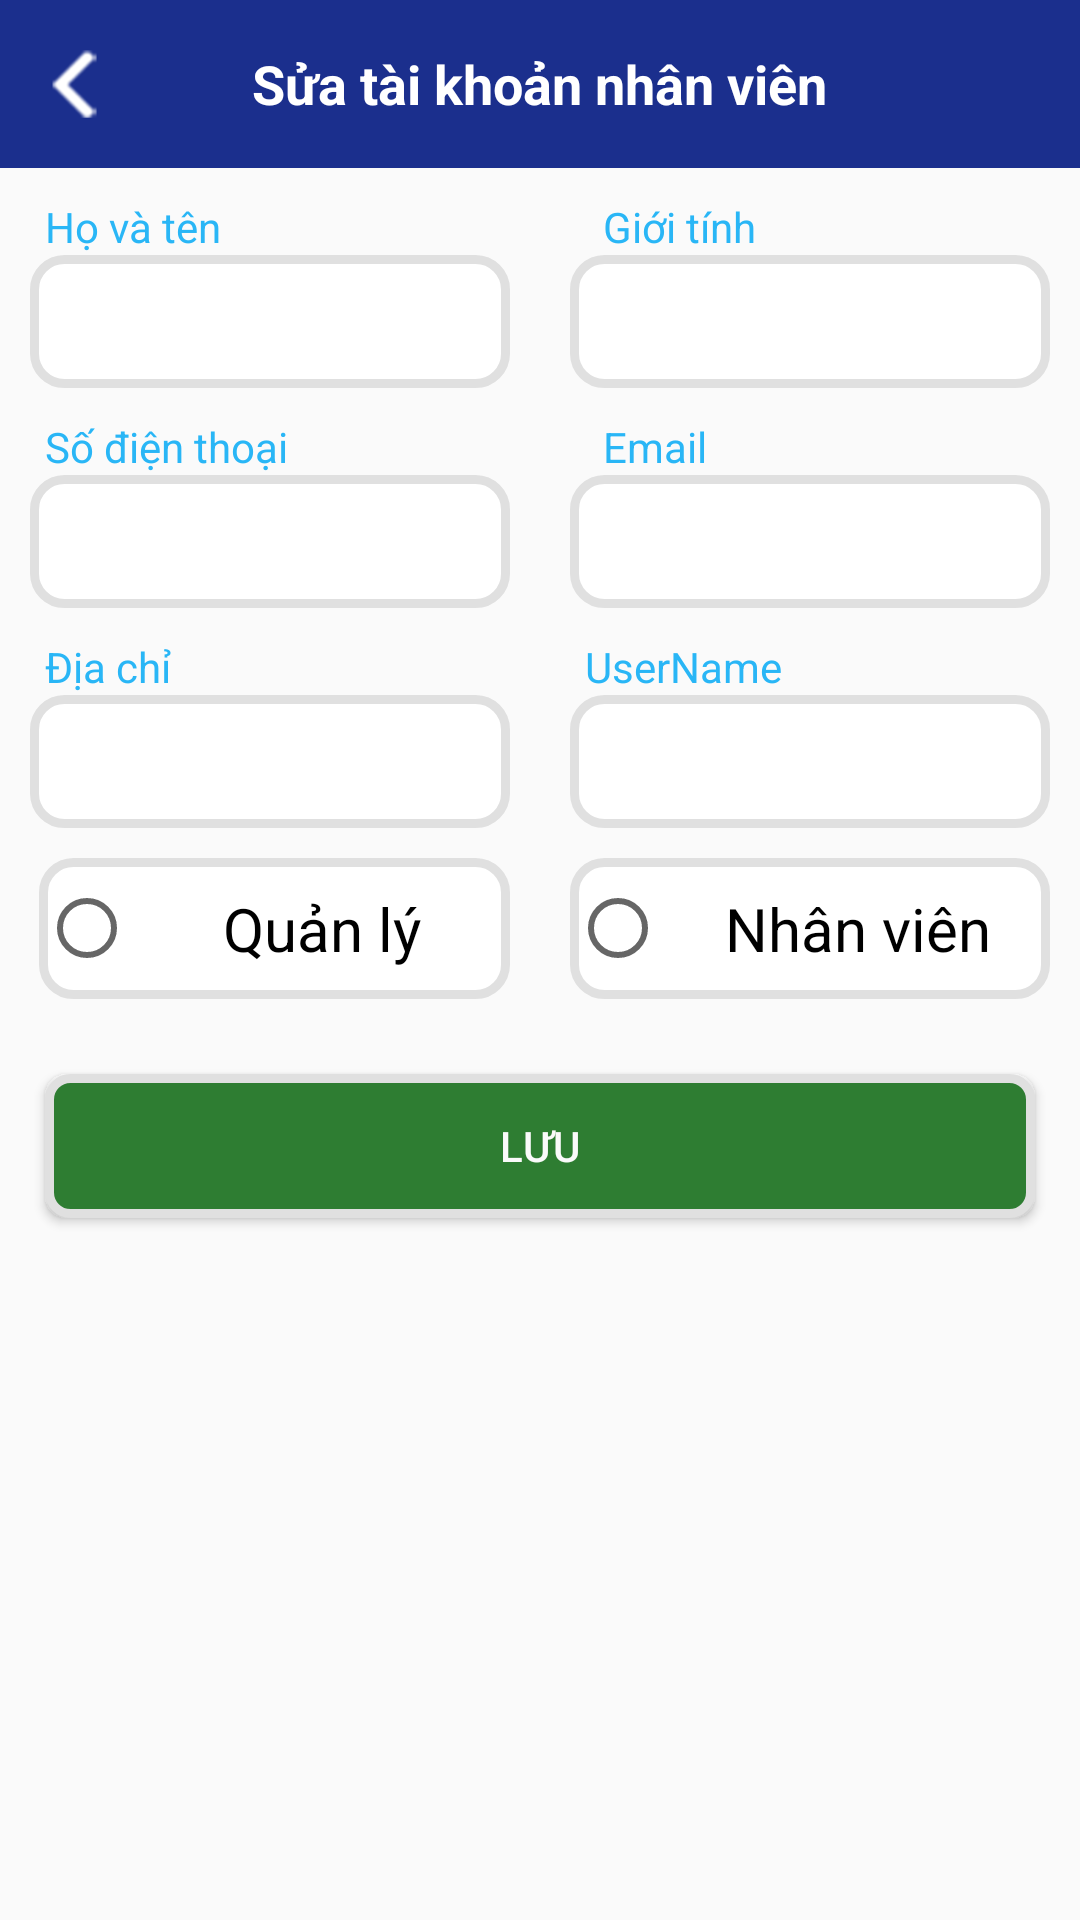

Icons on this 1080w x 1920h Android screen, each with its box as {"x1": x1, "y1": y1, "x2": x2, "y2": y2}:
arrow left: {"x1": 52, "y1": 50, "x2": 97, "y2": 118}
